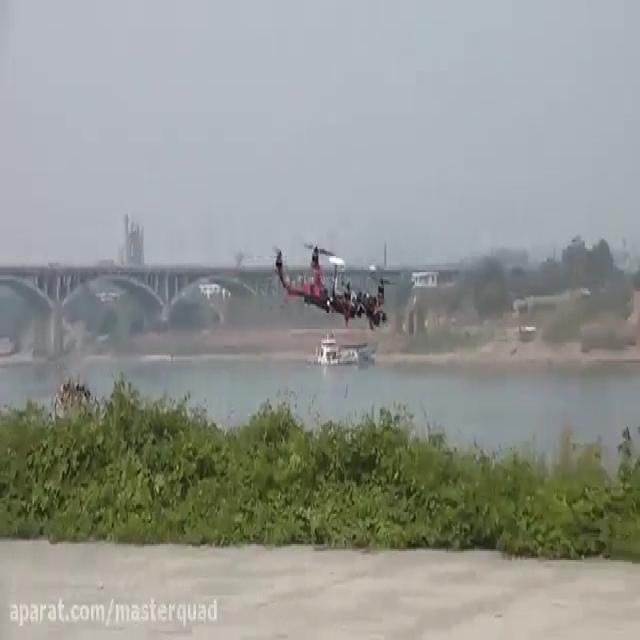drone: (269, 240, 394, 331)
